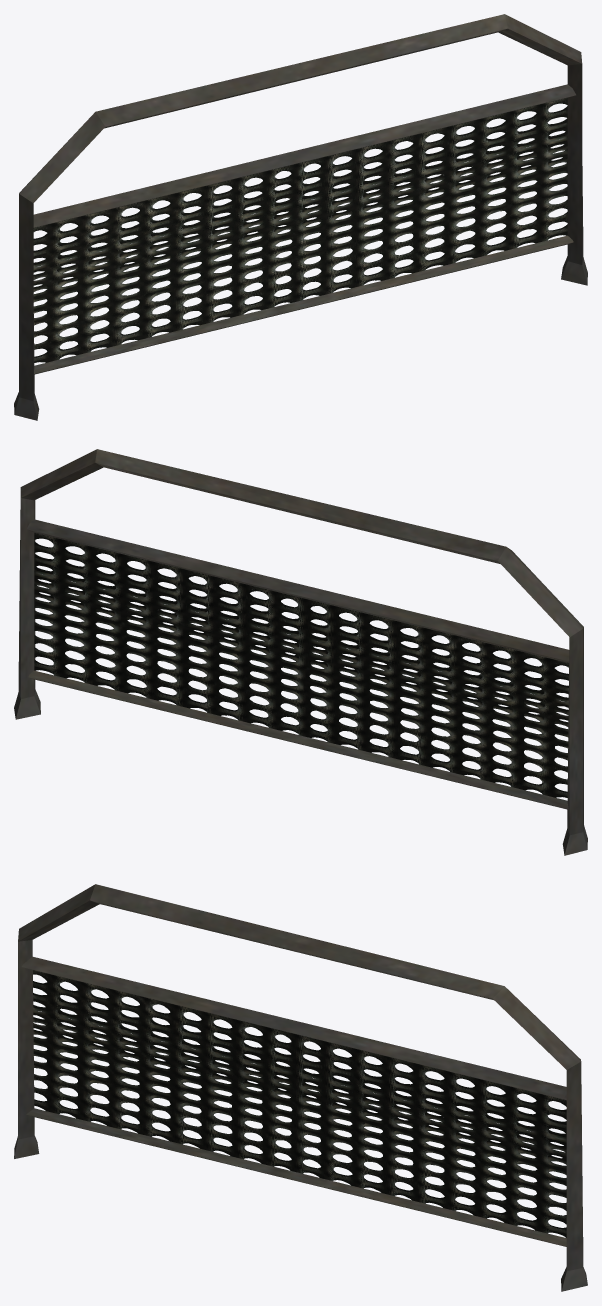
File: hek.obj
3 views of the same model, one above another, from view 1: azimuth 30°, elevation 25°; view 2: azimuth 150°, elevation 25°; view 3: azimuth 330°, elevation 25° (orthographic).
Parts seen in each view (by area): view 1: Group; view 2: Group; view 3: Group.
Part boxes in pixels (x1,y1,x2,y2): Group: (14, 14, 587, 420); Group: (14, 449, 587, 855); Group: (14, 884, 587, 1291).
Bounding box in the file's own units: 46.59 × 22.01 × 3.49.
